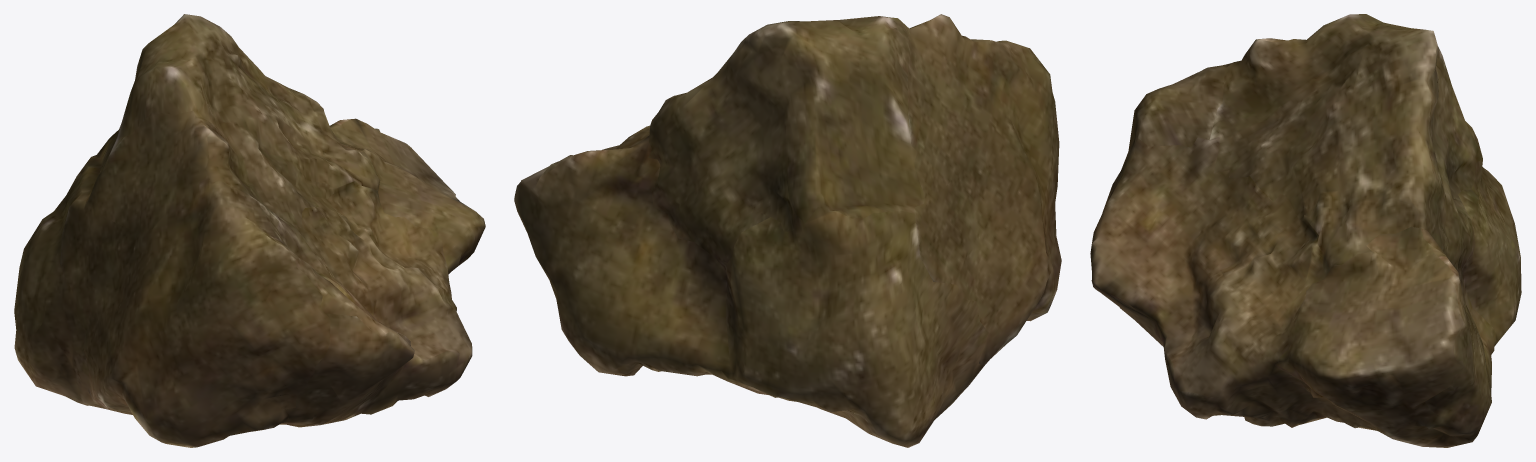
The model's file is rock_moss_set_01-rock04.glb.
3 views of the same model, side by side, from view 1: azimuth 30°, elevation 25°; view 2: azimuth 150°, elevation 25°; view 3: azimuth 270°, elevation 25° (orthographic). The views are drawn at different scales.
Parts seen in each view (by area): view 1: rock_moss_set_01_rock04; view 2: rock_moss_set_01_rock04; view 3: rock_moss_set_01_rock04.
Part boxes in pixels (x1,y1,x2,y2): rock_moss_set_01_rock04: [14, 14, 485, 447]; rock_moss_set_01_rock04: [514, 14, 1061, 447]; rock_moss_set_01_rock04: [1090, 14, 1521, 447].
Size of the model in its own units: 2.13 by 1.76 by 1.96.
Materials: 1 (1 with a texture image).
